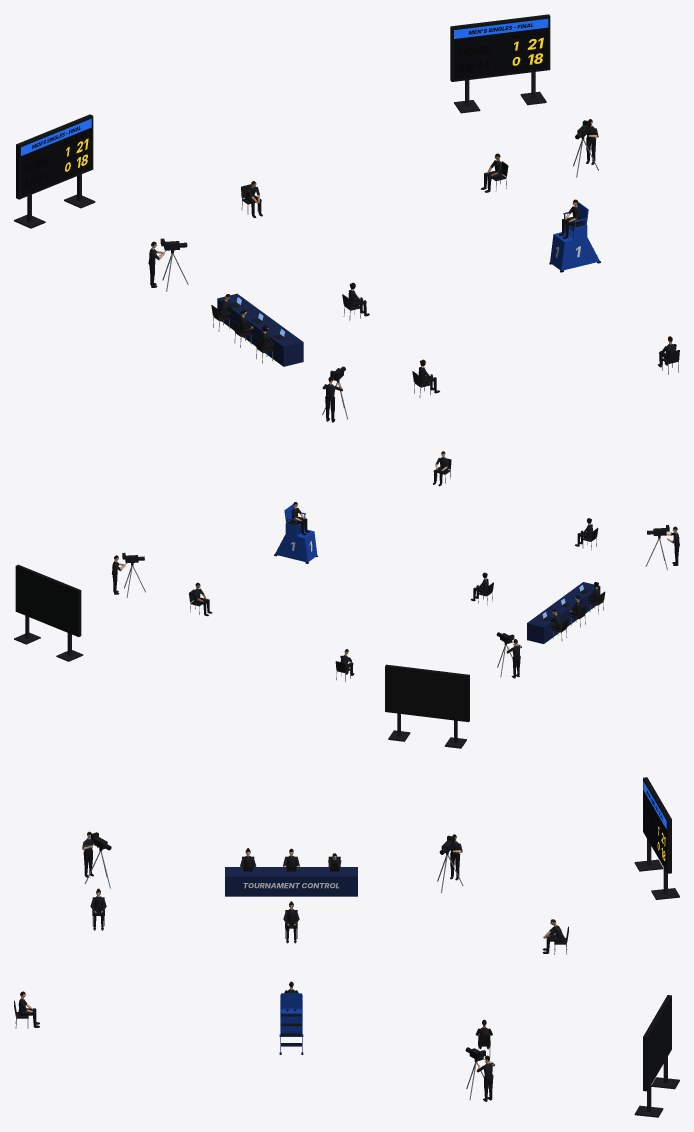
Rendered from REFEREE_AND_OFFICIALS.fbx.
3 renders of one model, top to bottom at view 1: azimuth 30°, elevation 25°; view 2: azimuth 150°, elevation 25°; view 3: azimuth 270°, elevation 25°, orthographic. The views are drawn at different scales.
Visible parts, largest first — view 1: Scoreboard_NorthEast, Scoreboard_NorthWest, TournamentControl_Desk, Umpire_Chair; view 2: Scoreboard_NorthWest, Scoreboard_NorthEast, TournamentControl_Desk, Umpire_Chair; view 3: TournamentControl_Desk, Scoreboard_NorthEast, Scoreboard_NorthWest, Umpire_Chair.
Boxes of the visible parts, left/top/right/bottom form: Scoreboard_NorthEast: left=450, top=14, right=550, bottom=113; Scoreboard_NorthWest: left=14, top=114, right=95, bottom=228; TournamentControl_Desk: left=217, top=293, right=303, bottom=366; Umpire_Chair: left=549, top=202, right=600, bottom=272; Scoreboard_NorthWest: left=385, top=664, right=469, bottom=748; Scoreboard_NorthEast: left=14, top=564, right=83, bottom=661; TournamentControl_Desk: left=527, top=582, right=600, bottom=643; Umpire_Chair: left=274, top=504, right=317, bottom=563; TournamentControl_Desk: left=225, top=866, right=357, bottom=896; Scoreboard_NorthEast: left=634, top=995, right=679, bottom=1117; Scoreboard_NorthWest: left=634, top=777, right=679, bottom=899; Umpire_Chair: left=279, top=993, right=303, bottom=1054.
Bounding box in the file's own units: 21.33 × 3.14 × 23.07.
